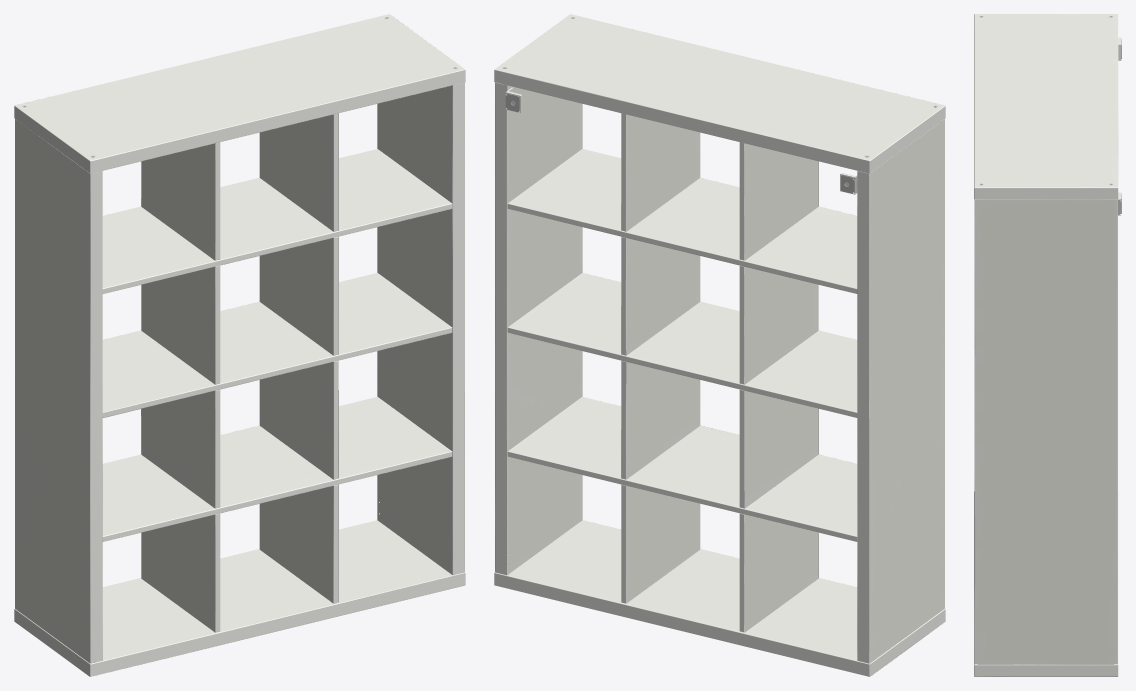
File: KALLAX_10409932.glb
3 views of the same model, side by side, from view 1: azimuth 30°, elevation 25°; view 2: azimuth 150°, elevation 25°; view 3: azimuth 270°, elevation 25° (orthographic). The views are drawn at different scales.
Parts seen in each view (by area): view 1: model; view 2: model; view 3: model.
Part boxes in pixels (<box>): model: <box>14,14,465,676</box>; model: <box>494,14,945,676</box>; model: <box>974,14,1121,676</box>.
Size of the model in its own units: 1.12 by 1.47 by 0.4015.
1 material, 1 textured.
